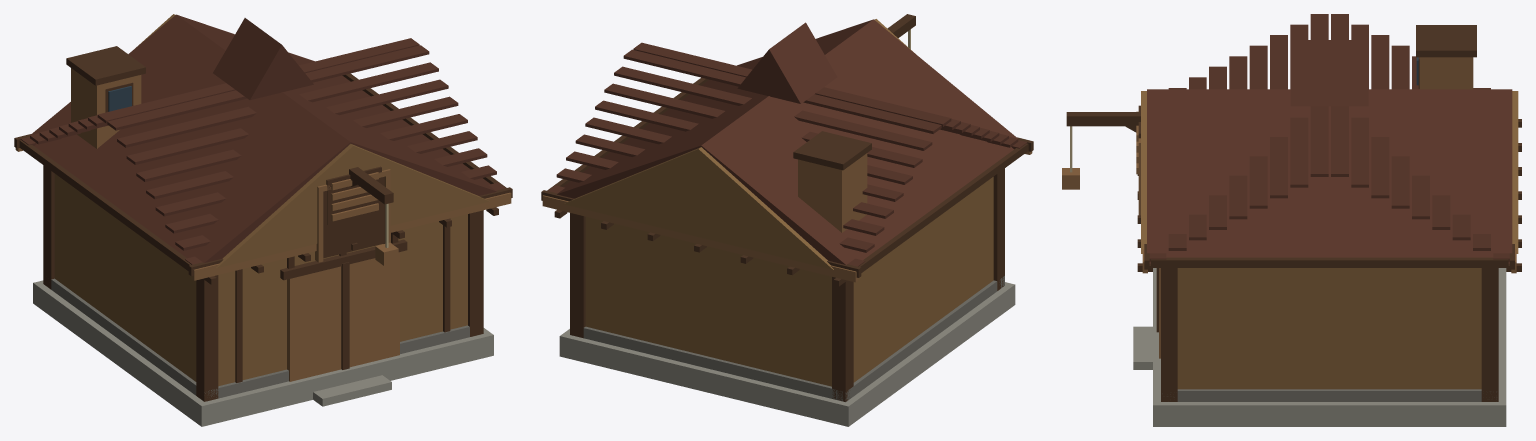
Rendered from storage.glb.
3 views of the same model, side by side, from view 1: azimuth 30°, elevation 25°; view 2: azimuth 150°, elevation 25°; view 3: azimuth 270°, elevation 25° (orthographic). The views are drawn at different scales.
Visible parts, largest first — view 1: storage; view 2: storage; view 3: storage.
Boxes of the visible parts, x1,y1,x2,y2 form: storage: (14, 14, 512, 426); storage: (541, 14, 1033, 426); storage: (1062, 14, 1521, 426).
Size of the model in its own units: 6.49 by 5.76 by 7.68.
